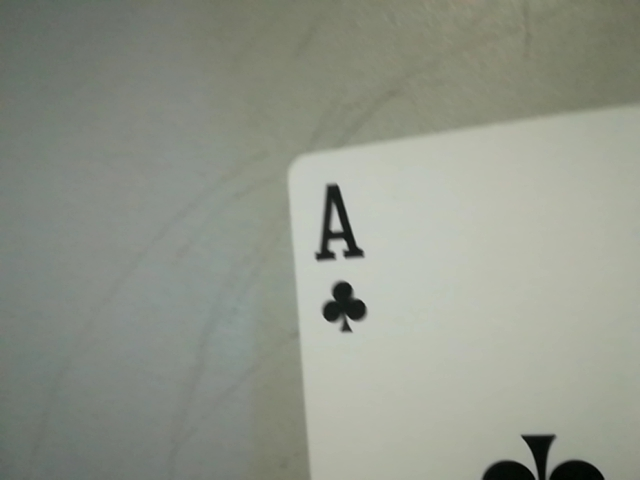mh a: (301, 168, 384, 346)
